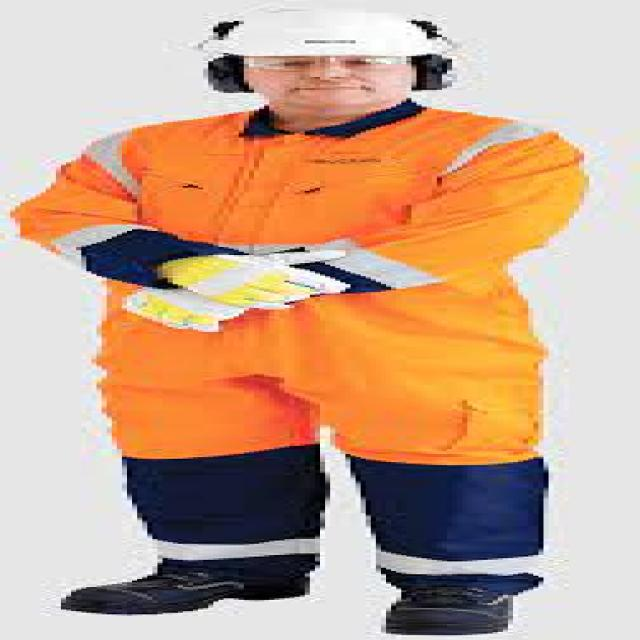vest: (9, 106, 584, 579)
